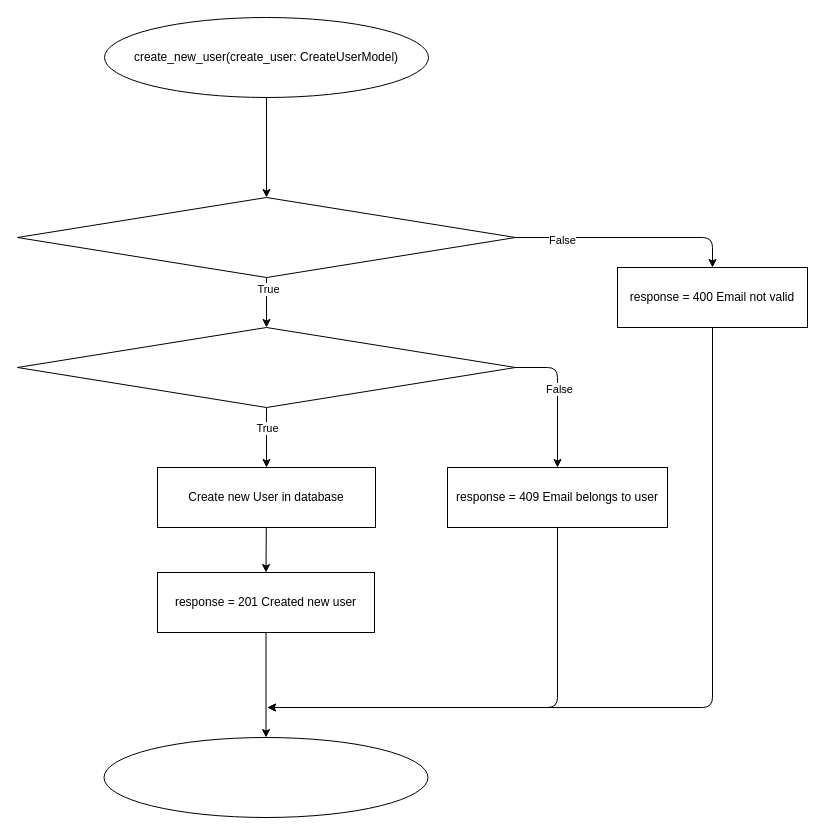
Some shapes in this 825 by 835 pixel diagram are drawn without their labels. The centre of each missing label's shape, as x and y in pixels:
If create_user.email does not exist in database: (x=266, y=367)
If create_user.email matches r " [^ @ ] + @ [^ @ ] +\. [^ @ ] + ": (x=266, y=237)
return response: (x=265, y=777)
